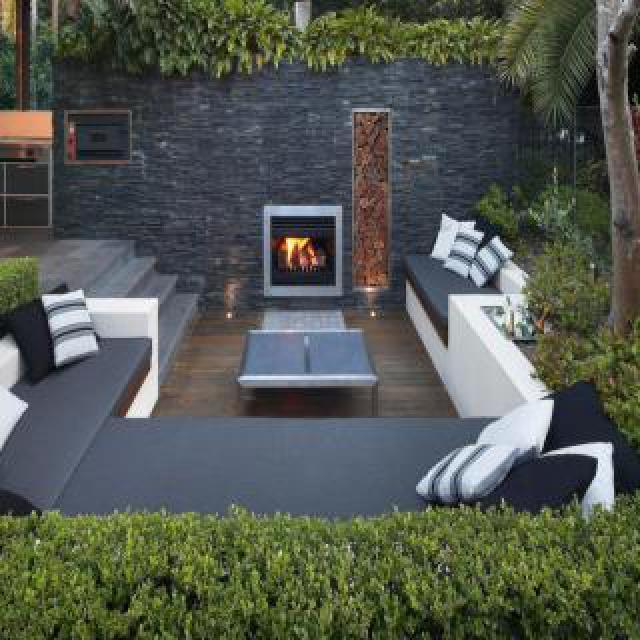Fire: (280, 228, 320, 276)
